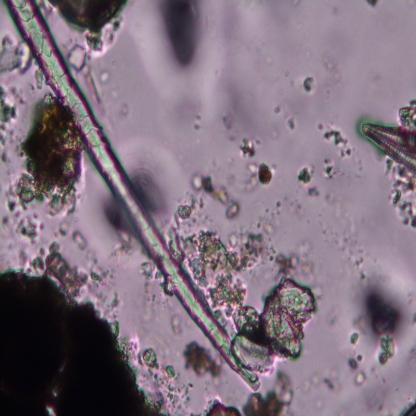Background material: (0, 250, 154, 414), (170, 178, 264, 318), (235, 262, 314, 374), (25, 101, 89, 212), (346, 276, 402, 373), (151, 1, 210, 84), (132, 141, 189, 224), (200, 70, 255, 155), (302, 218, 376, 274), (200, 374, 298, 414), (358, 345, 416, 407), (194, 168, 240, 222), (5, 174, 38, 240), (184, 332, 224, 382), (243, 137, 274, 185), (260, 186, 286, 240), (0, 34, 33, 76), (274, 244, 314, 278), (318, 122, 354, 158), (64, 32, 93, 74), (0, 87, 17, 150), (296, 370, 338, 394), (276, 102, 300, 133), (113, 97, 130, 121), (308, 182, 325, 204), (298, 165, 314, 188), (399, 398, 416, 415), (301, 73, 315, 93), (94, 63, 108, 82), (354, 366, 366, 384), (365, 1, 379, 10)
Diatom: (357, 121, 416, 172), (51, 0, 128, 30)
Hair: (5, 0, 260, 391)
